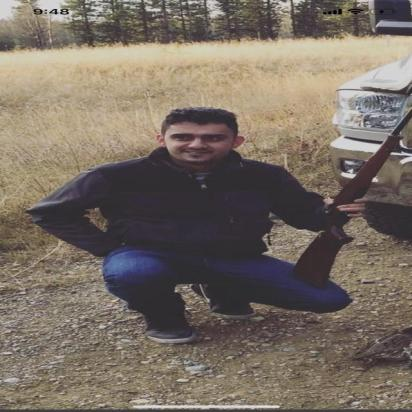Gun: (285, 108, 412, 291)
